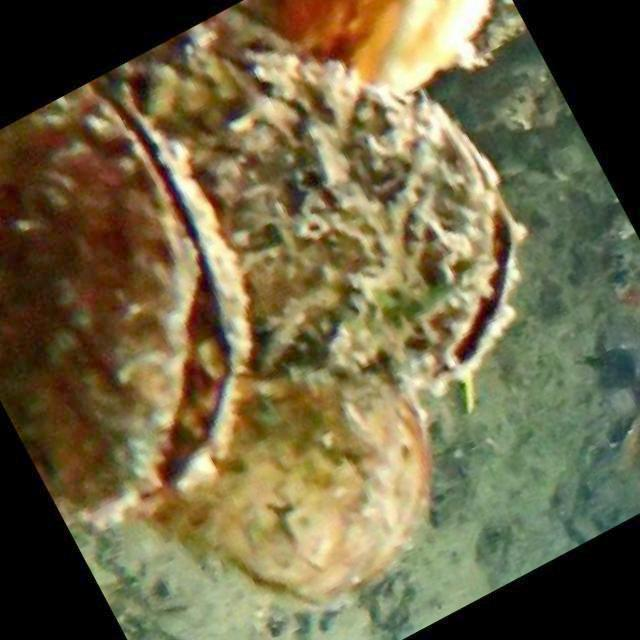Oyster-Closed: (149, 369, 429, 597)
Oyster-Open: (0, 86, 245, 525), (187, 67, 514, 386)
